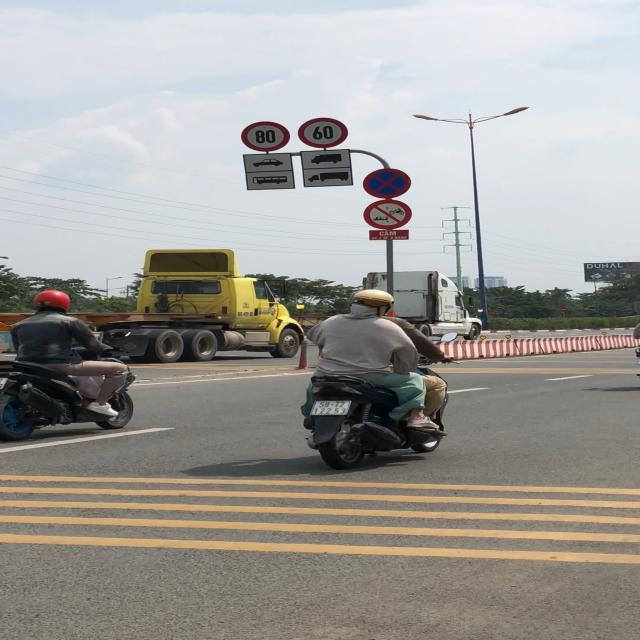Bien bao cam dung xe va do xe: (360, 168, 415, 200)
Bien bao toc do toi da cho phep: (297, 116, 350, 148), (239, 120, 291, 152)
